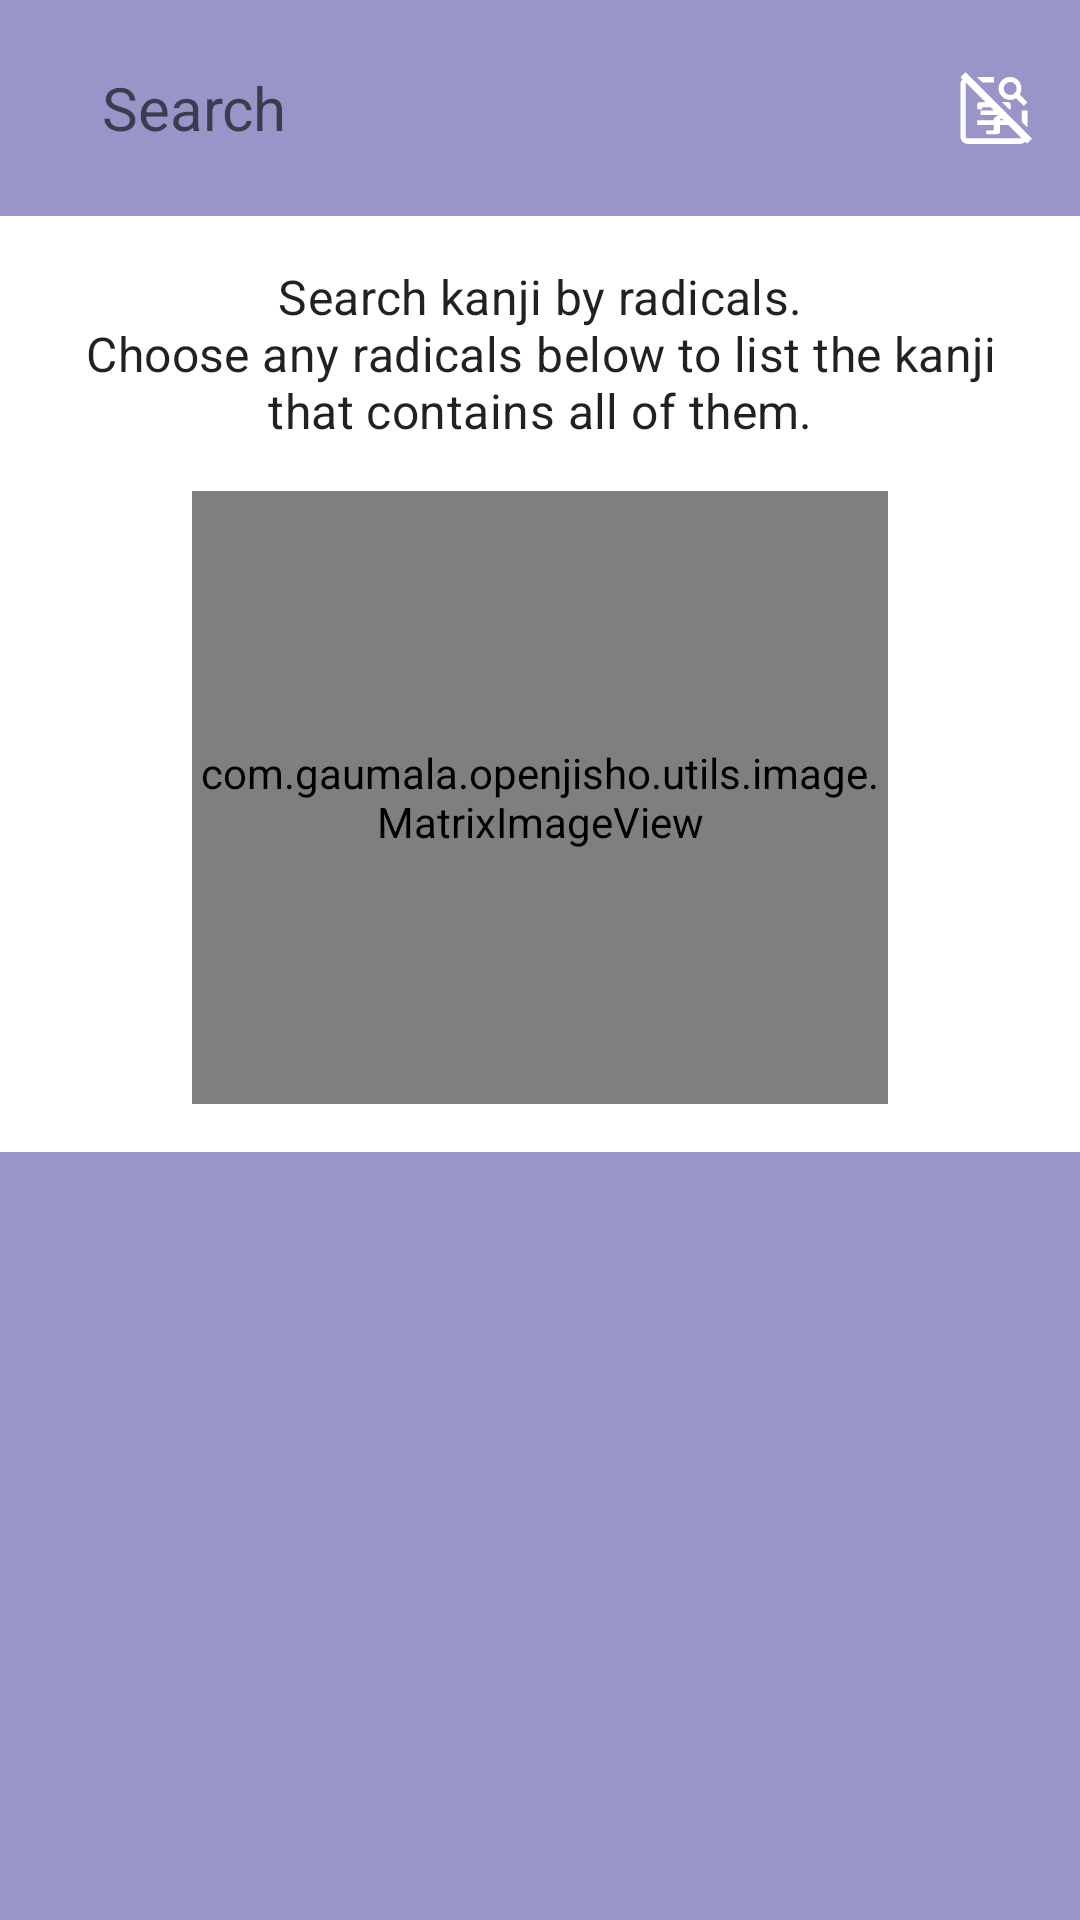

Icon bounding boxes for this 1080×1920 phone screenshot, format (x1,y1,x2,y2):
radical search off: (960,72,1032,144)
